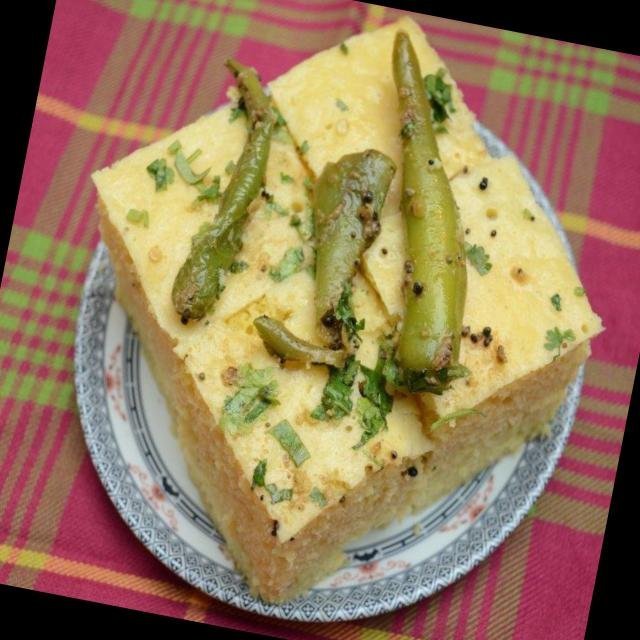dhokla: (36, 0, 629, 624)
